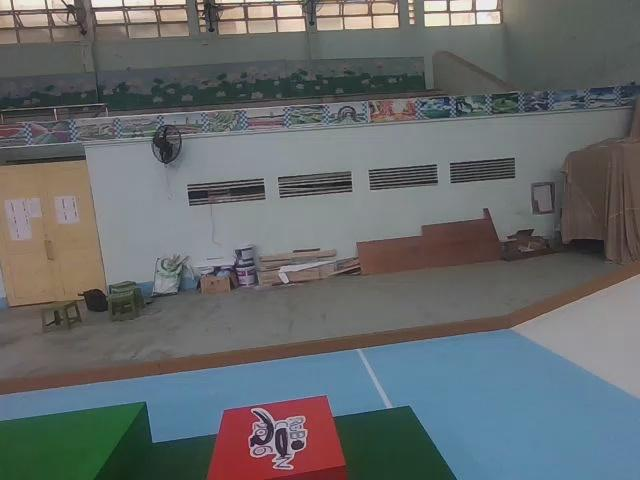R1: (209, 394, 349, 480)
